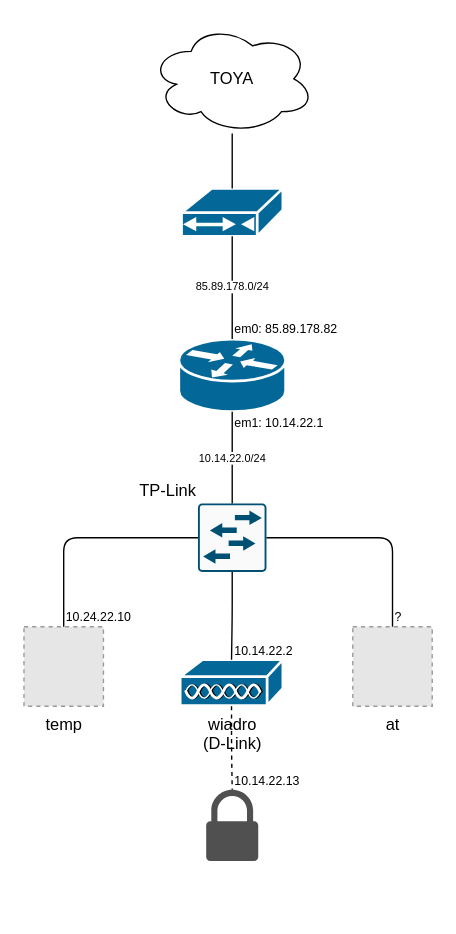
Some shapes in this 456 by 934 pixel diagram are drawn without their labels. Grey dashed boxes stand in for pictures. The centre of each missing label's shape, as x and y in pixels:
"centralka (pfSense)" belongs at [231,374].
"Modem DOCSIS" belongs at [231,211].
"zamek (tasmota)" belongs at [232,824].
